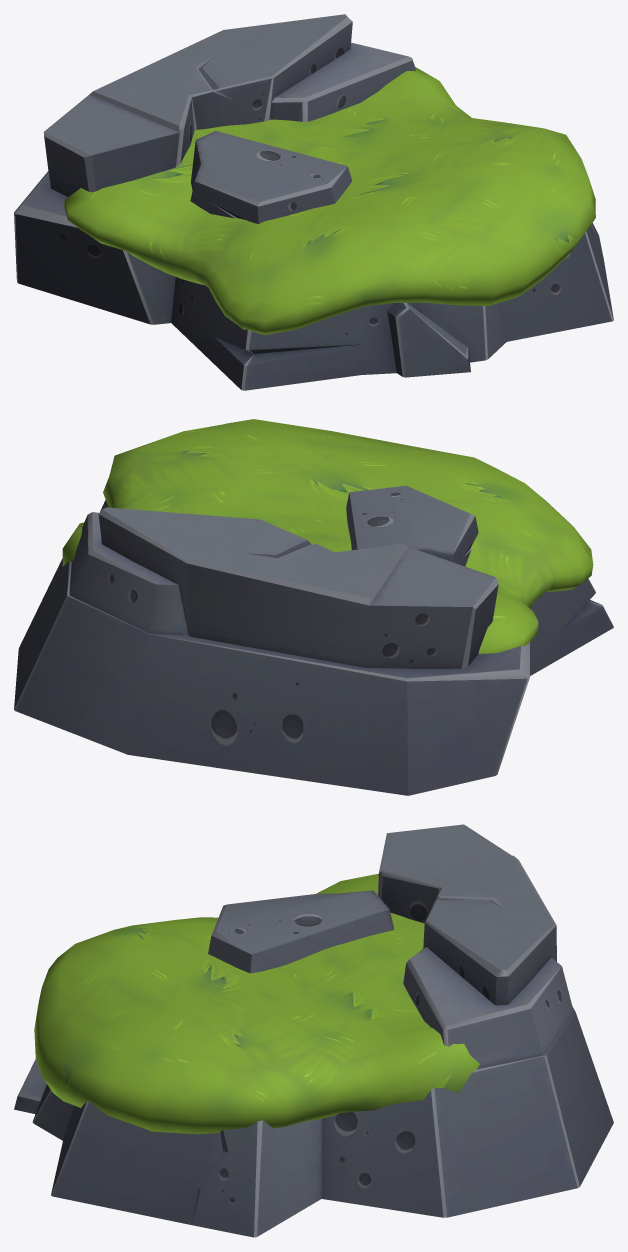
Rendered from LargeForestRockWithGrass.fbx.
3 views of the same model, one above another, from view 1: azimuth 30°, elevation 25°; view 2: azimuth 150°, elevation 25°; view 3: azimuth 270°, elevation 25° (orthographic). The views are drawn at different scales.
Parts seen in each view (by area): view 1: LargeForestRock, LargeForestRockGrass; view 2: LargeForestRock, LargeForestRockGrass; view 3: LargeForestRock, LargeForestRockGrass.
Boxes of the visible parts, x1=… form: LargeForestRock: x1=14, y1=14, x2=613, y2=390; LargeForestRockGrass: x1=64, y1=67, x2=595, y2=334; LargeForestRock: x1=14, y1=485, x2=613, y2=795; LargeForestRockGrass: x1=62, y1=419, x2=593, y2=653; LargeForestRock: x1=14, y1=824, x2=613, y2=1237; LargeForestRockGrass: x1=34, y1=874, x2=479, y2=1134.
Bounding box in the file's own units: 1052 × 345 × 981.
